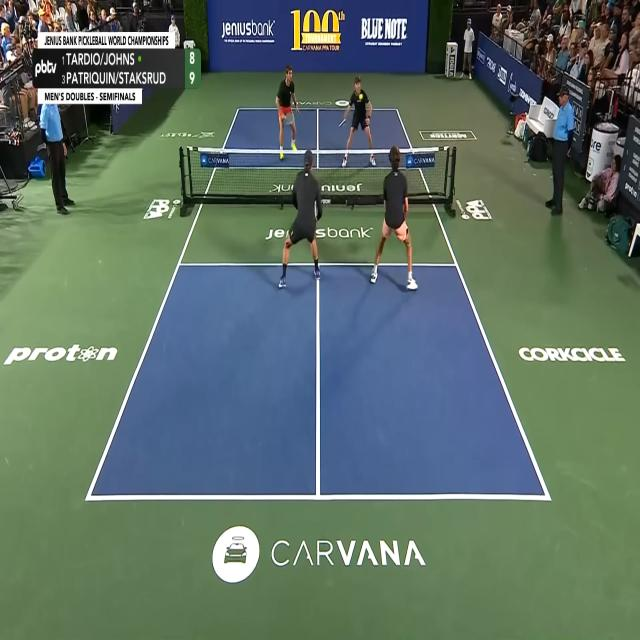ball: (358, 93, 364, 100)
